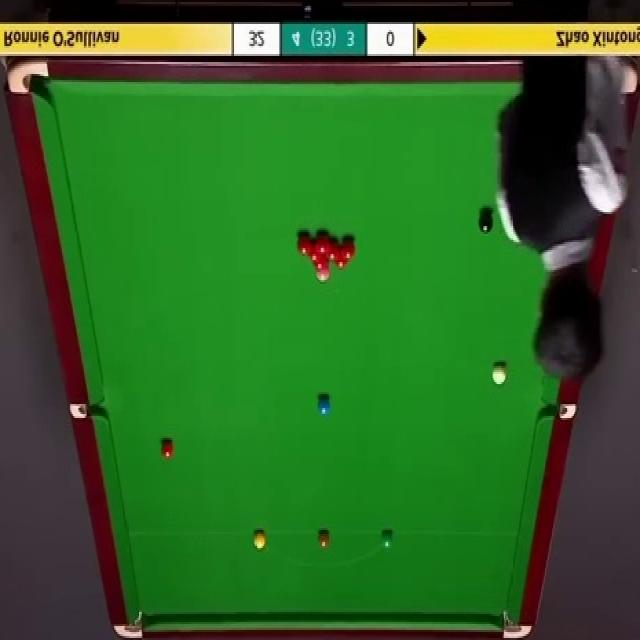pocket: (6, 58, 49, 97), (109, 606, 145, 640), (499, 608, 530, 640), (539, 402, 576, 422), (67, 405, 105, 420)
